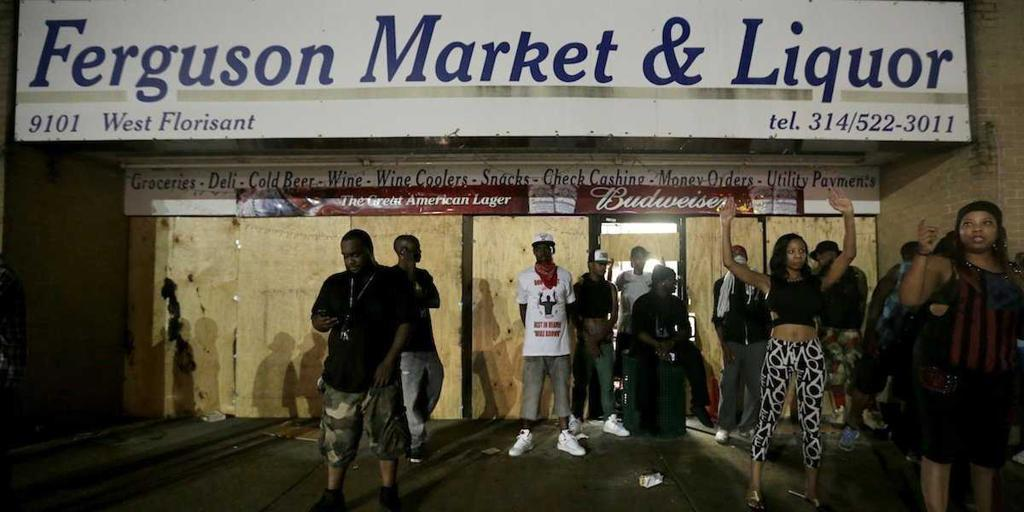face: (960, 215, 998, 253), (342, 243, 369, 274), (785, 242, 807, 269), (407, 242, 422, 262), (536, 244, 551, 262), (816, 251, 830, 268), (732, 252, 746, 268), (633, 253, 646, 270), (595, 259, 607, 276), (667, 274, 677, 293)
